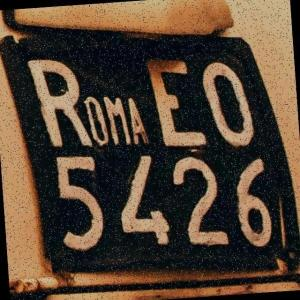Plate: (0, 14, 300, 288)
